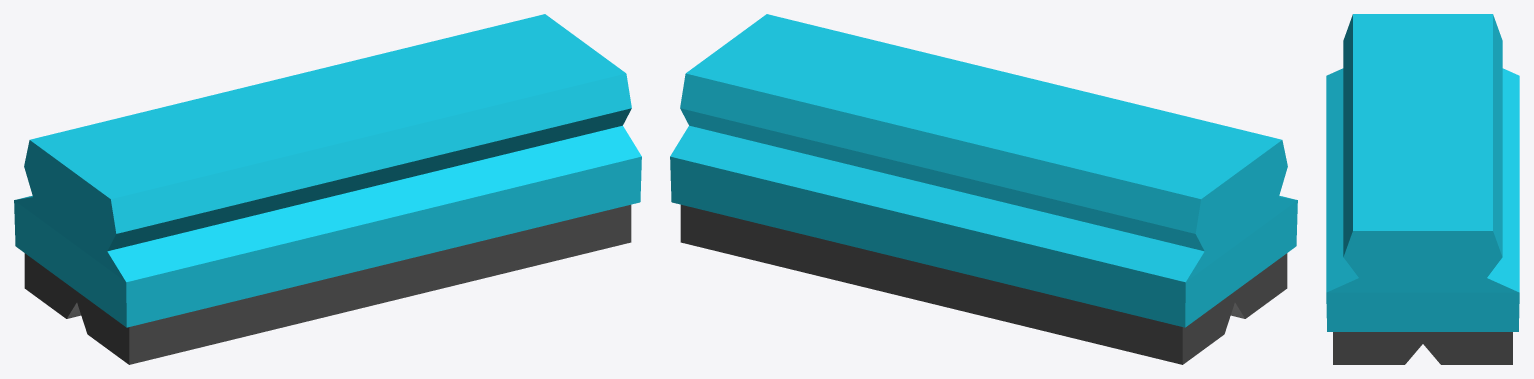
Rendered from eraser.glb.
3 renders of one model, left to right at view 1: azimuth 30°, elevation 25°; view 2: azimuth 150°, elevation 25°; view 3: azimuth 270°, elevation 25°, orthographic. The views are drawn at different scales.
Visible parts, largest first — view 1: mesh_eraser_01; view 2: mesh_eraser_01; view 3: mesh_eraser_01.
Part boxes in pixels (box(x1,y1,x2,y2)): mesh_eraser_01: box(14, 14, 641, 364); mesh_eraser_01: box(670, 14, 1297, 364); mesh_eraser_01: box(1326, 14, 1519, 364).
Size of the model in its own units: 0.256 by 0.0754 by 0.0965.
1 material, 1 textured.
